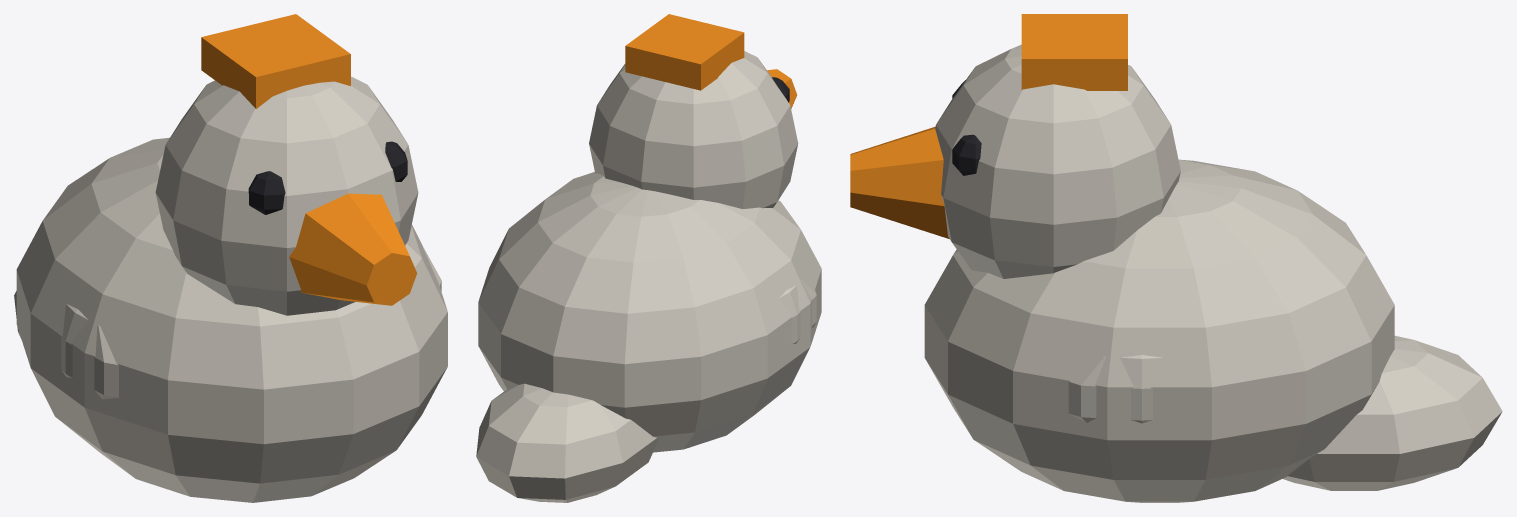
File: rubber_duck.glb
3 views of the same model, side by side, from view 1: azimuth 30°, elevation 25°; view 2: azimuth 150°, elevation 25°; view 3: azimuth 270°, elevation 25° (orthographic). The views are drawn at different scales.
Parts seen in each view (by area): view 1: rubber_duck; view 2: rubber_duck; view 3: rubber_duck.
Part boxes in pixels (x1,y1,x2,y2): rubber_duck: [14, 14, 447, 502]; rubber_duck: [476, 14, 821, 502]; rubber_duck: [850, 14, 1502, 502].
Size of the model in its own units: 0.1112 by 0.1395 by 0.1845.
